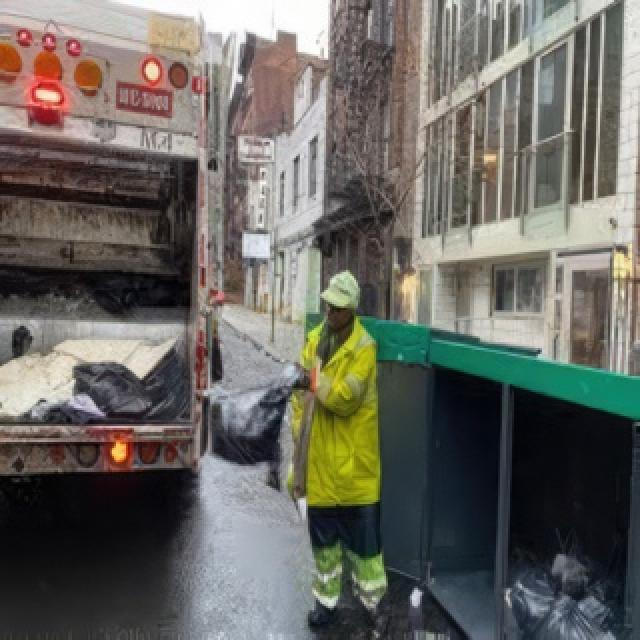Trashbag: (498, 547, 639, 640), (198, 369, 300, 493), (76, 349, 185, 422)
